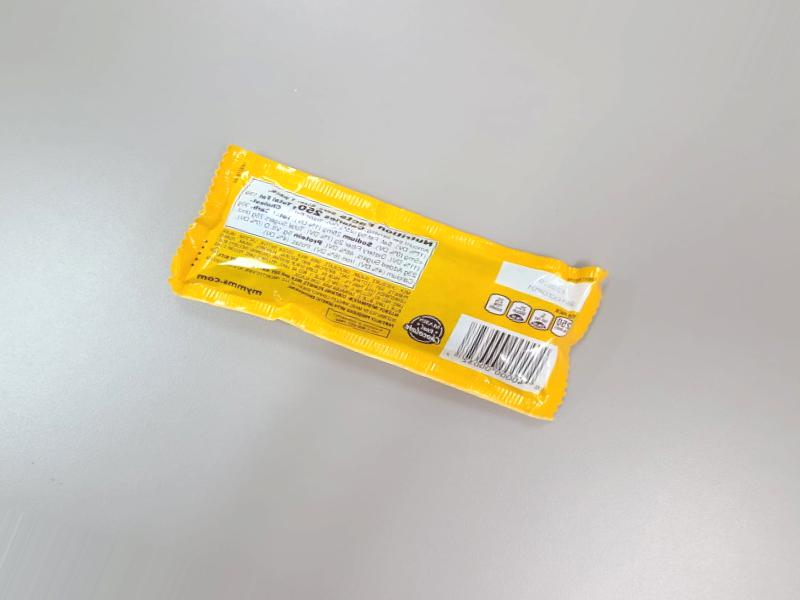m&m: (160, 155, 603, 426)
